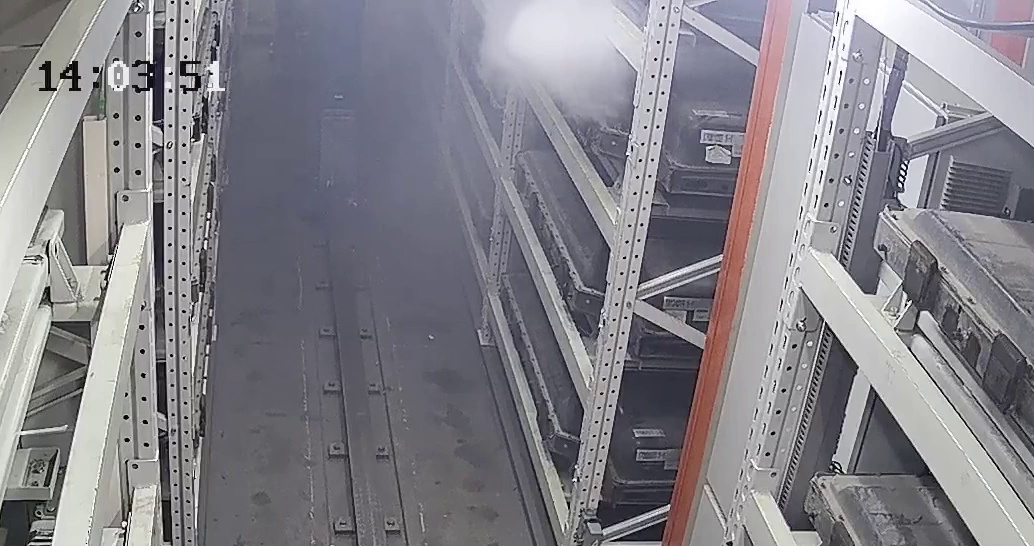smoke: (481, 7, 630, 108)
